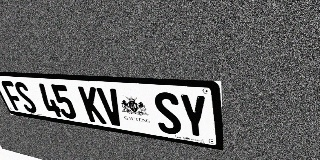4: (35, 83, 63, 117)
5: (50, 84, 78, 120)
F: (0, 81, 26, 112)
K: (77, 86, 107, 124)
S: (152, 91, 183, 136), (12, 81, 39, 114)
V: (96, 87, 126, 127)
Y: (178, 93, 209, 140)
